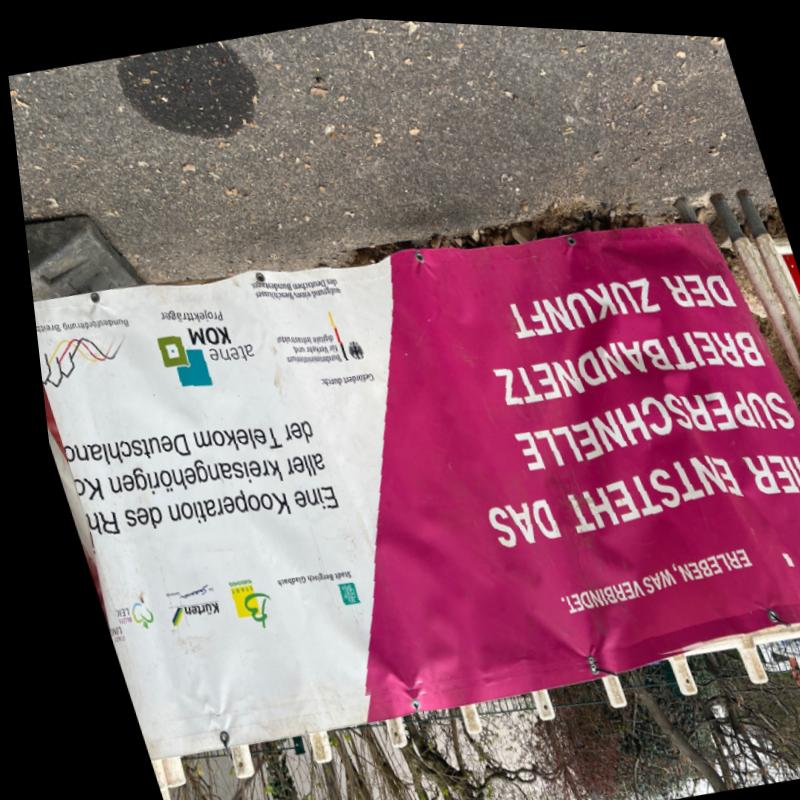Banner: (13, 144, 800, 772)
